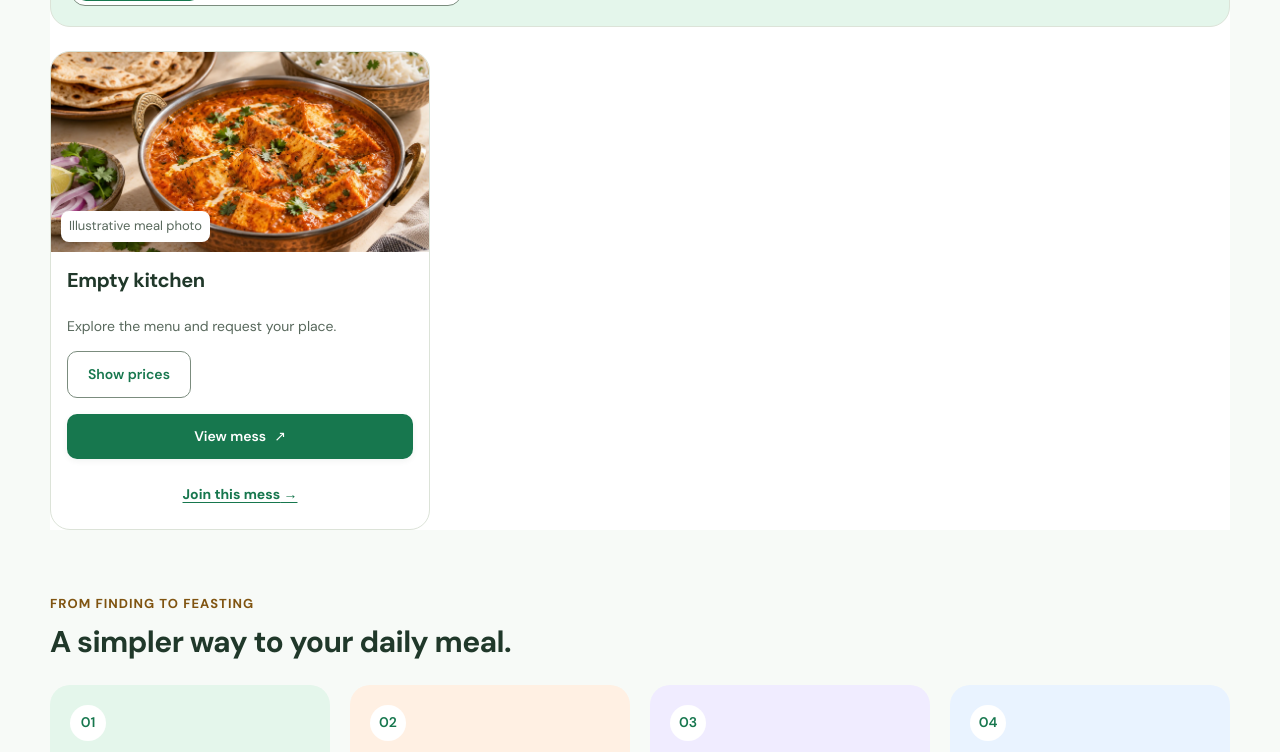
Scenario: does not invent prices for an unpublished kitchen
(page scrolled)
Expected: the heading "Empty kitchen" is shown, [67,266,205,292]
Click the button "Show prices". click: (129, 374)
box: [67,351,191,398]
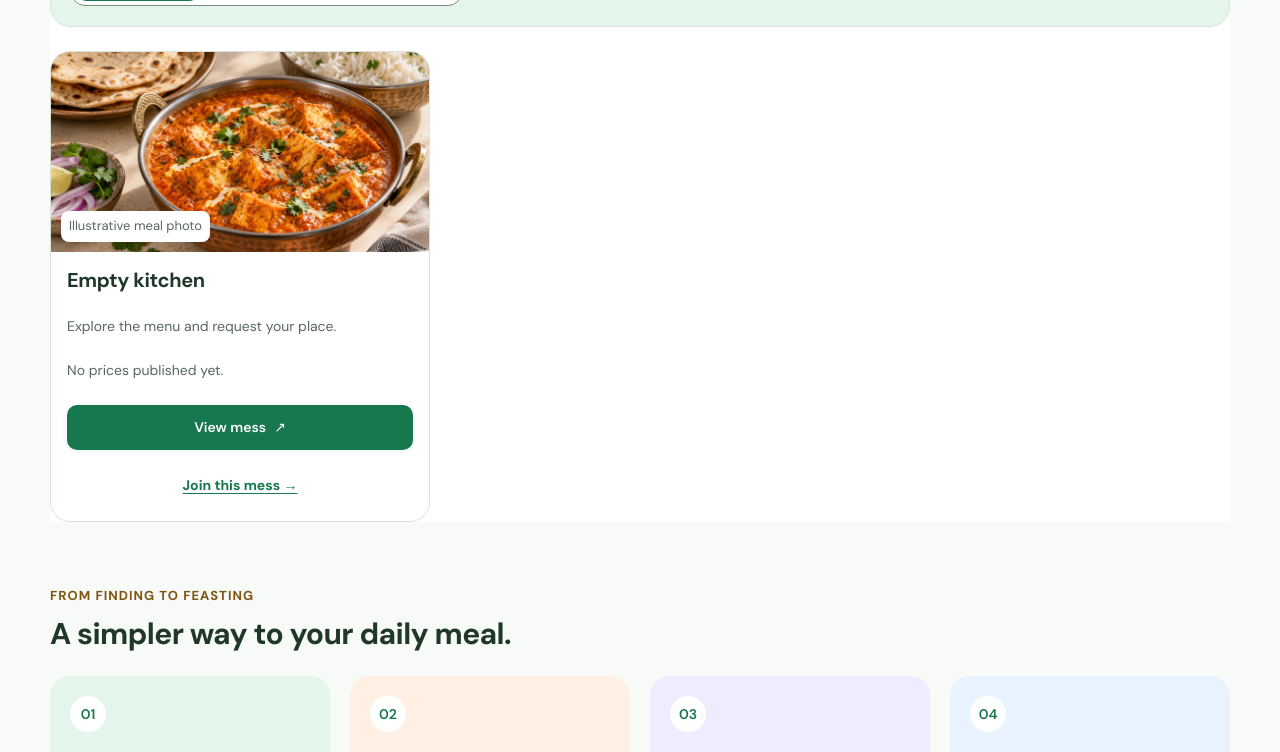
Now the text "No prices published yet." is shown, box [67,361,223,379]
